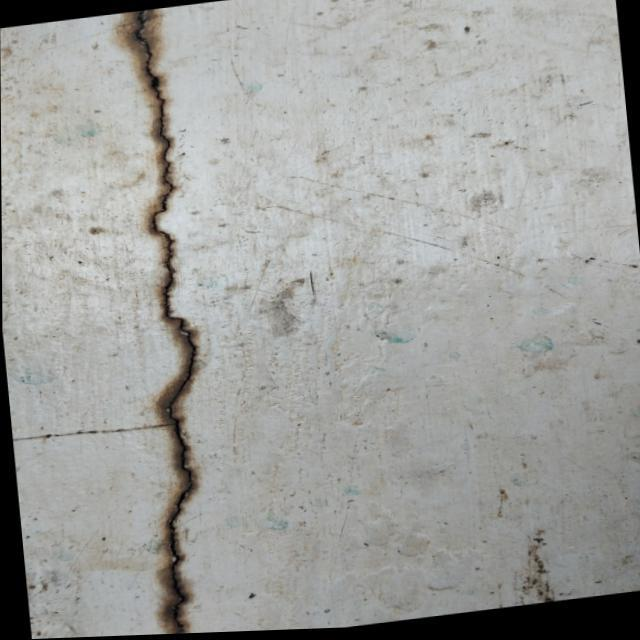Crack: (125, 15, 197, 628)
